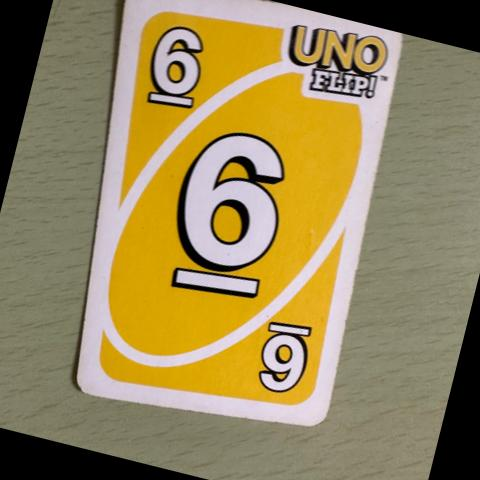lyellow-6: (118, 0, 237, 123)
